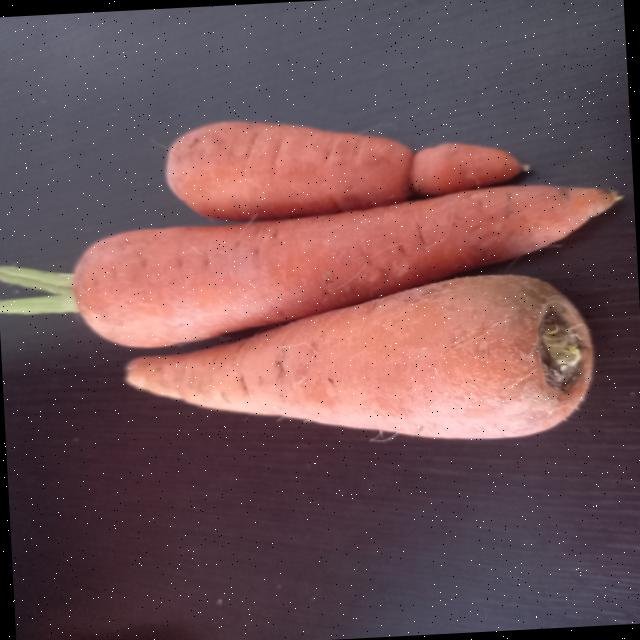carrot: (73, 185, 617, 347), (126, 274, 593, 438), (167, 120, 519, 219)
